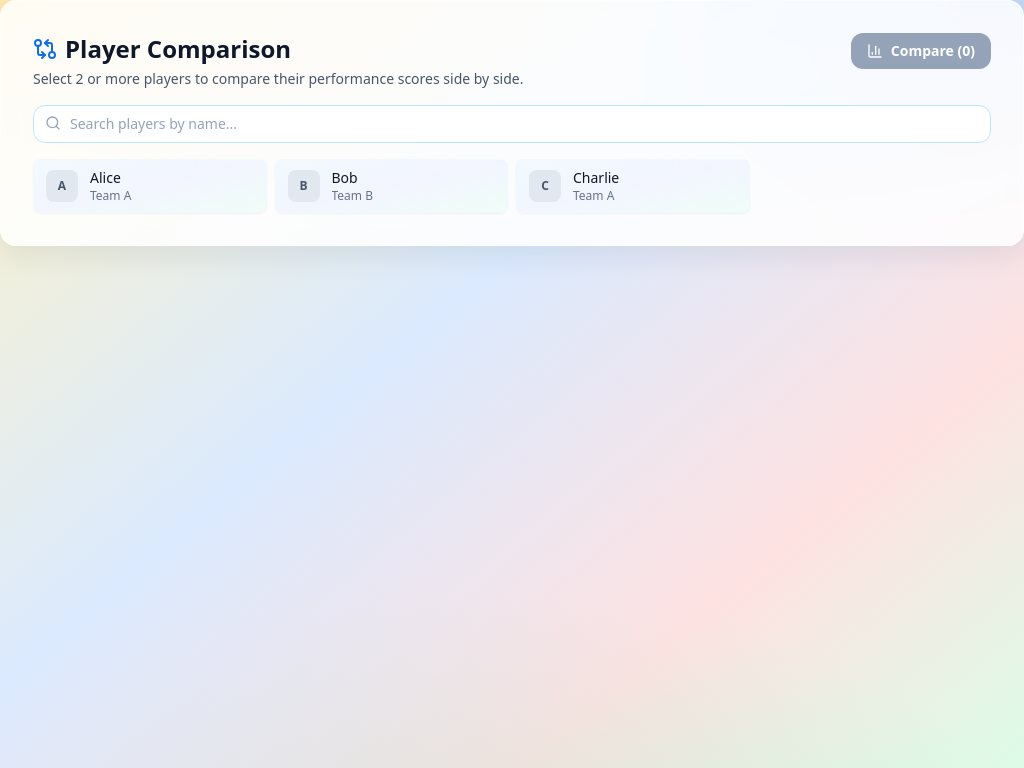
Test: PlayerComparison › compare button enabled only with 2+ players
Expected: the text "Alice" is shown, [90,168,121,187]
Expected: the button "Compare (0)" is disabled, [851,33,991,69]
Click the button "A Alice Team A" at [150, 186], box [33,159,266,213]
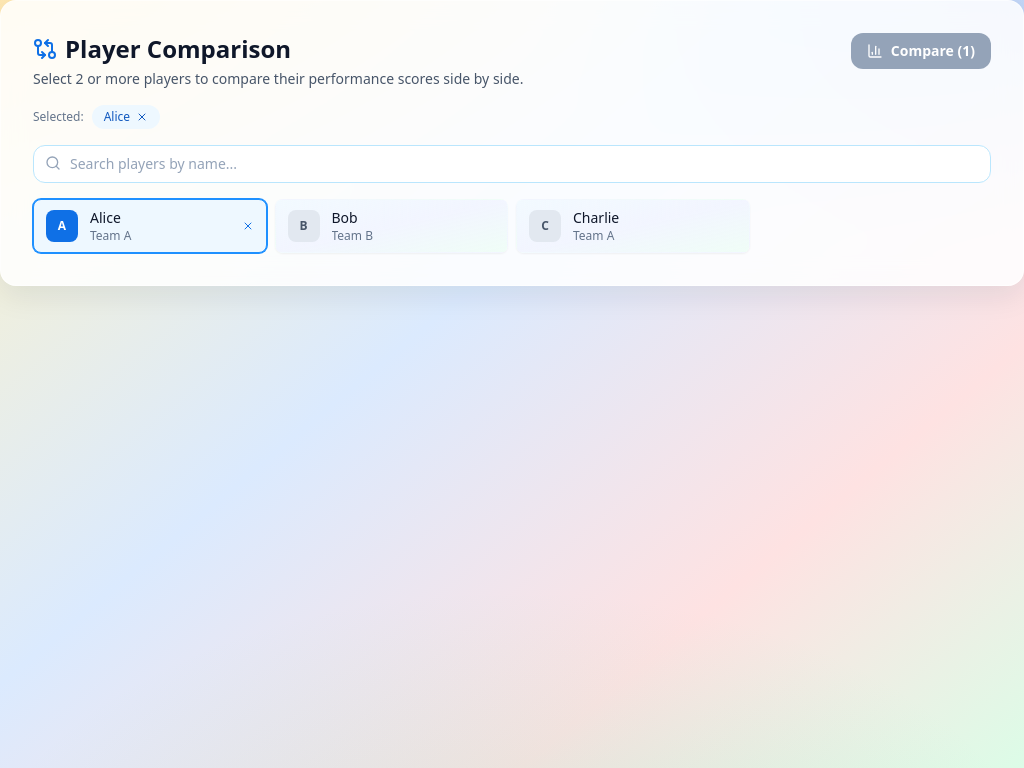
Click the button "B Bob Team B" at [391, 226], box [274,199,508,253]
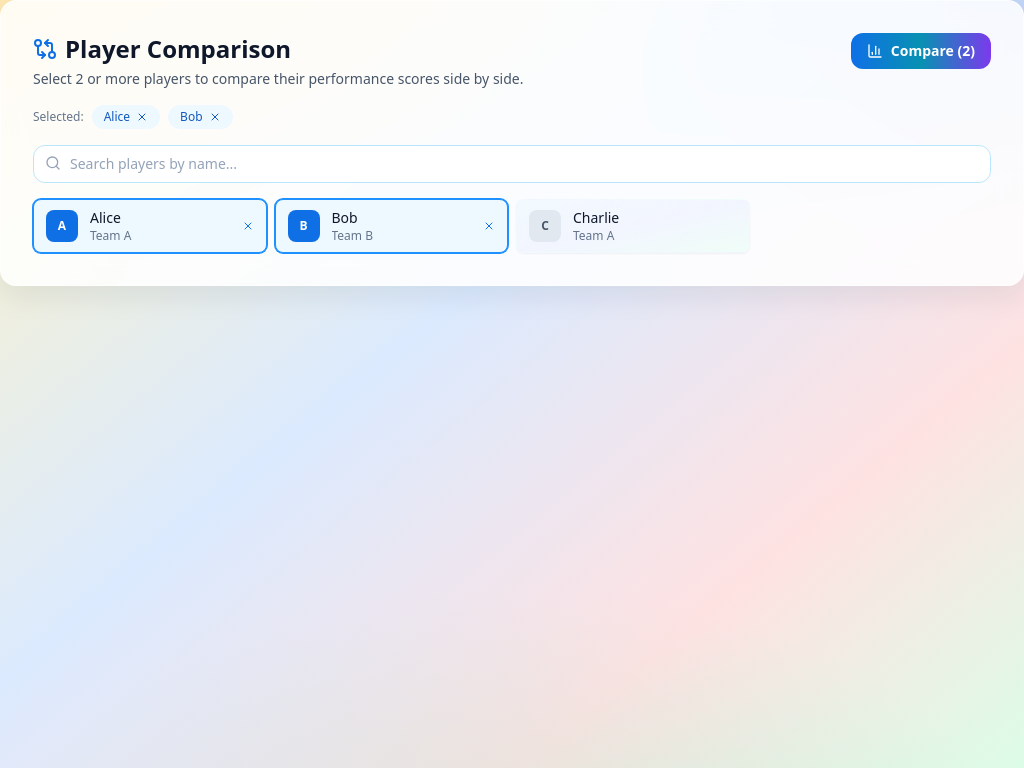
Result: the button "Compare (2)" is enabled at [851,33,991,69]
